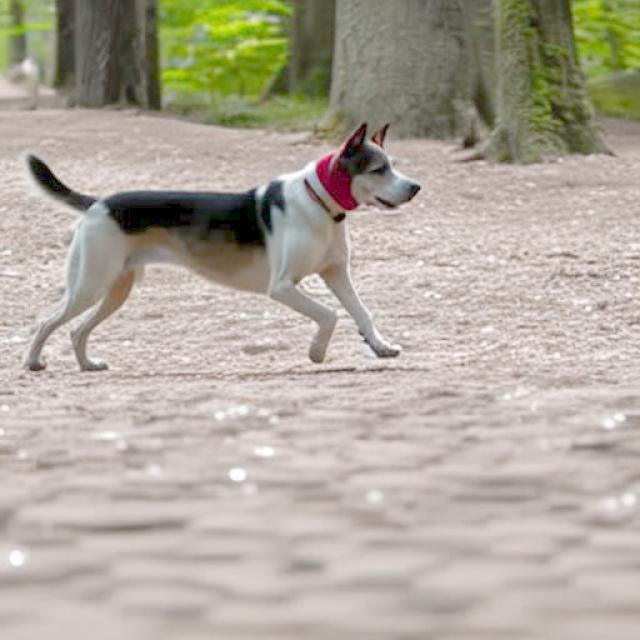Dog: (22, 121, 420, 372)
